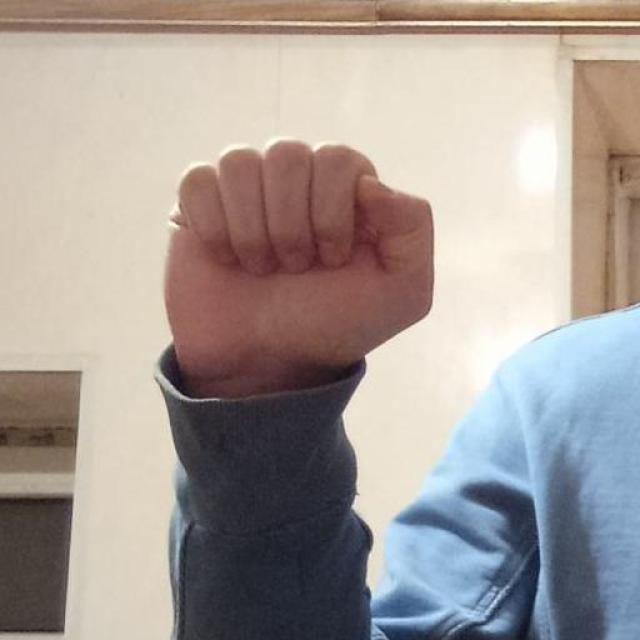hand: (161, 135, 435, 394)
